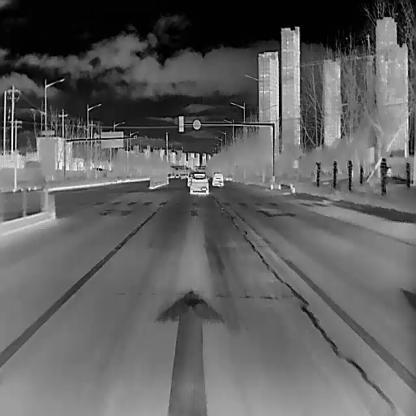car: (189, 171, 209, 194), (212, 171, 223, 186), (187, 173, 193, 186), (166, 172, 171, 177), (175, 172, 178, 178)
